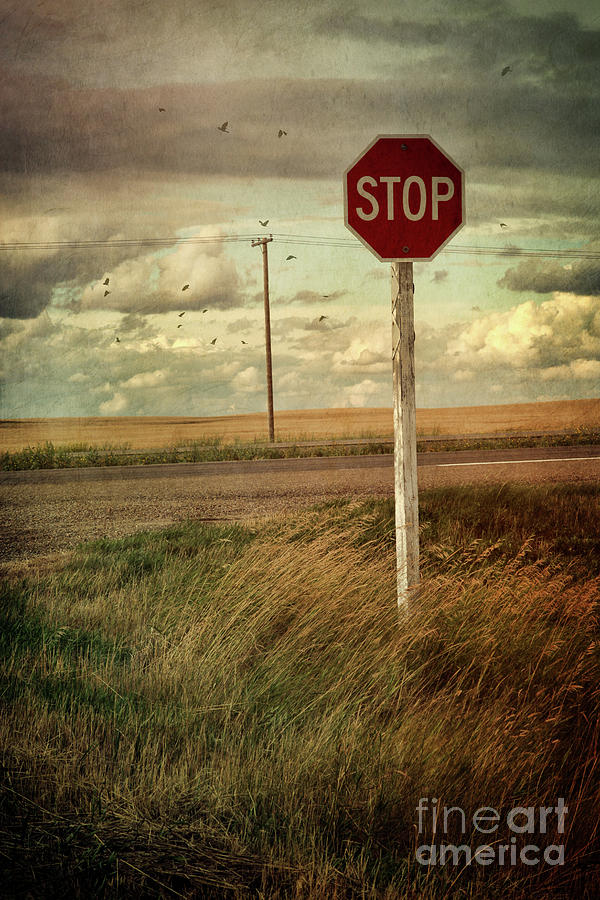stop: (335, 127, 472, 264)
